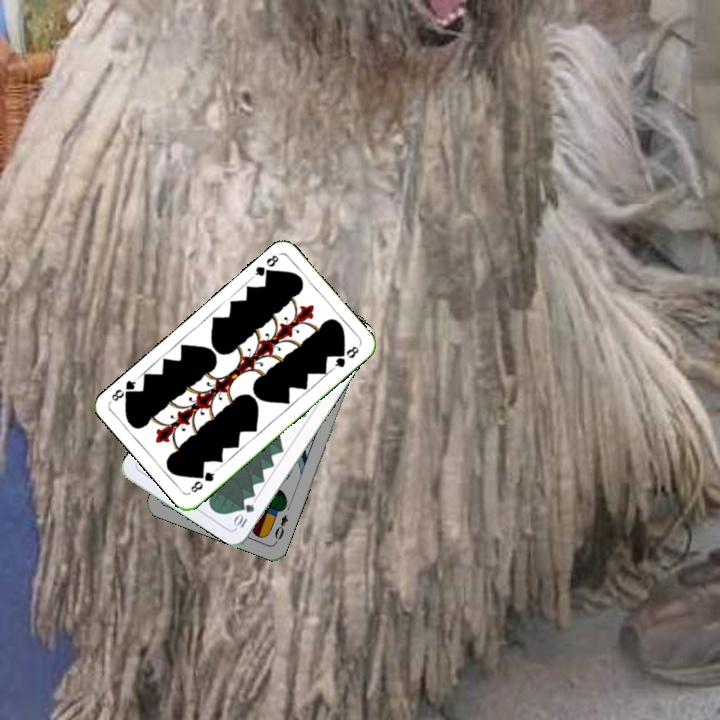EO: (270, 510, 291, 546)
G10: (230, 499, 257, 531)
G8: (248, 250, 282, 281), (187, 465, 219, 495)
